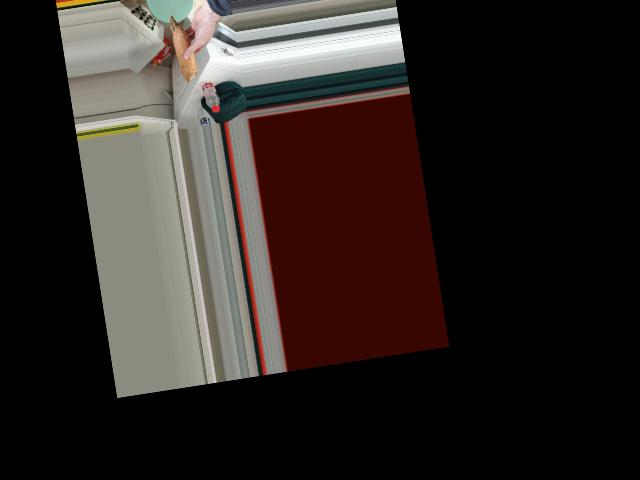sweet_potato: (168, 11, 197, 78)
